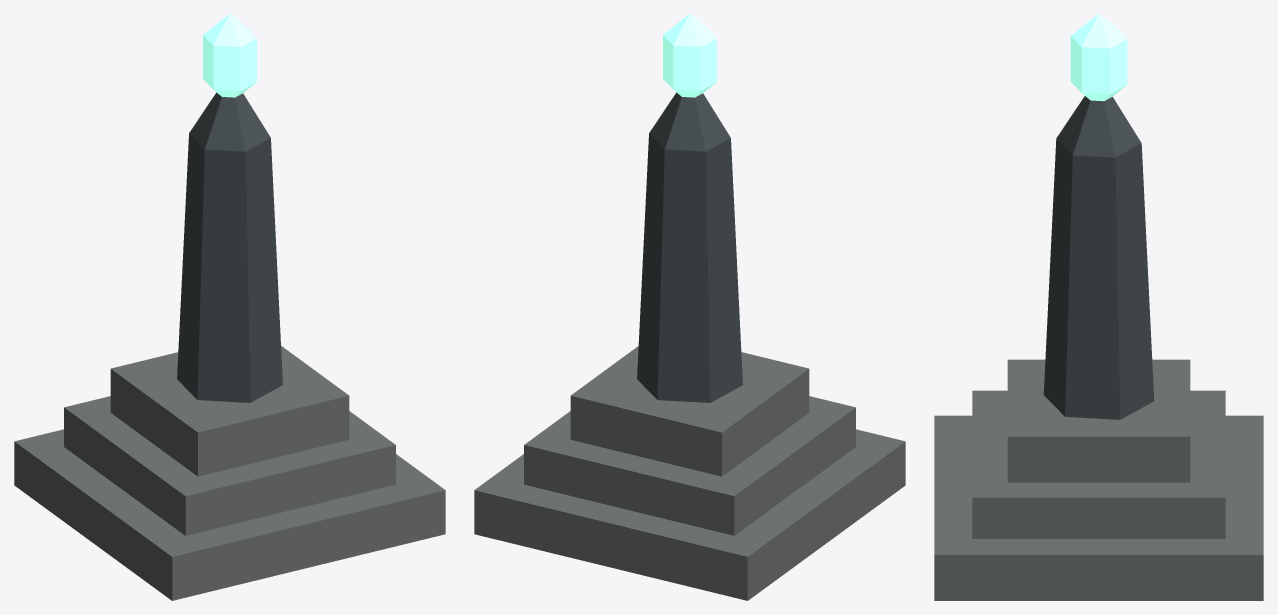
Rendered from PRP_05_Memorial.glb.
The picture shows the model from 3 angles, left to right: view 1: azimuth 30°, elevation 25°; view 2: azimuth 150°, elevation 25°; view 3: azimuth 270°, elevation 25°; orthographic projection. The views are drawn at different scales.
Visible parts, largest first — view 1: PRP_05_Memorial; view 2: PRP_05_Memorial; view 3: PRP_05_Memorial.
Part boxes in pixels (x1,y1,x2,y2): PRP_05_Memorial: (14, 14, 445, 600); PRP_05_Memorial: (474, 14, 905, 600); PRP_05_Memorial: (934, 14, 1263, 600).
Bounding box in the file's own units: 1.3 × 2.25 × 1.3.
